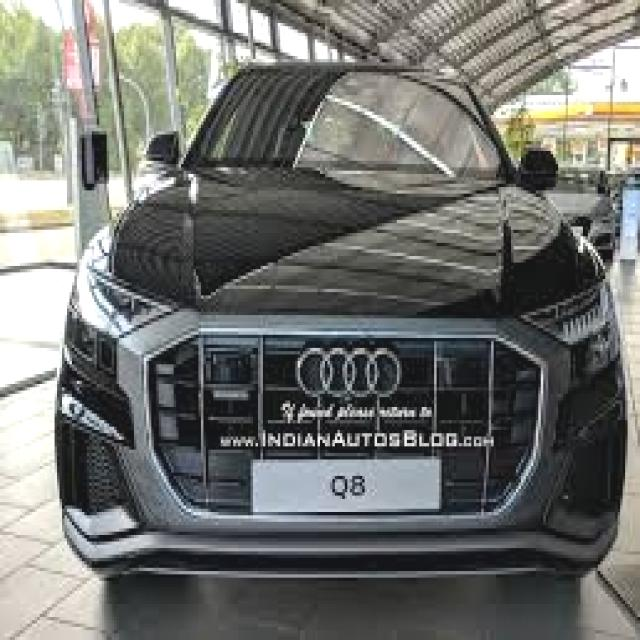black: (56, 50, 640, 570)
